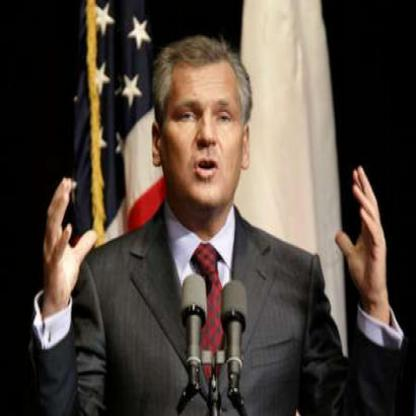face: (161, 41, 248, 210)
